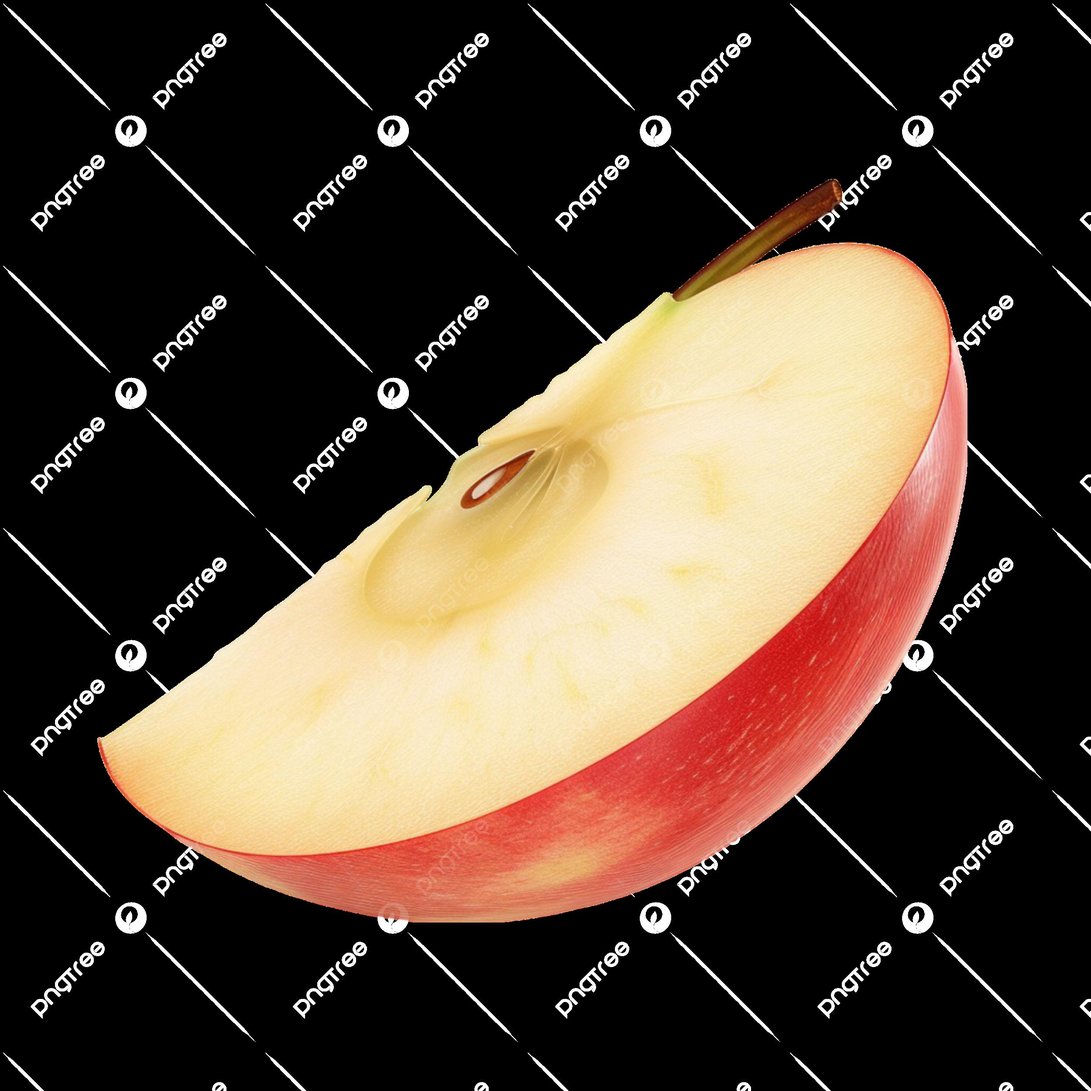apples: (74, 164, 984, 949)
